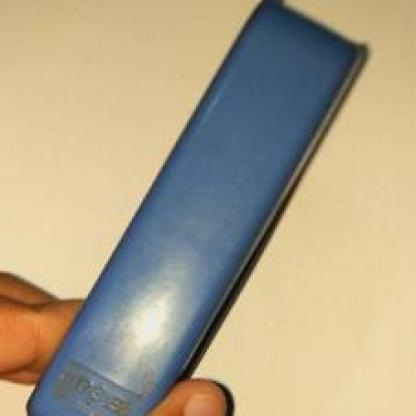stapler: (33, 7, 365, 414)
